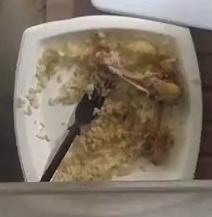rice_mix: (14, 28, 199, 180)
